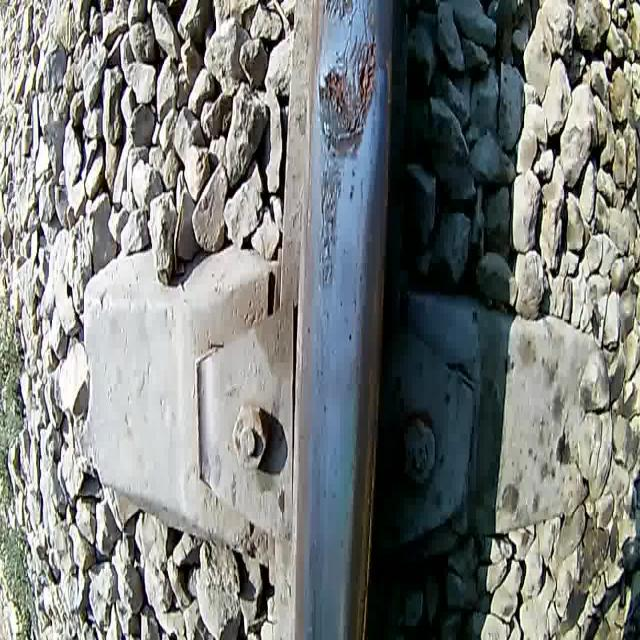Cracks: (342, 33, 376, 154), (332, 0, 372, 101), (316, 152, 333, 248)
Spallings: (319, 58, 345, 120)
Squats: (316, 31, 382, 168), (316, 158, 345, 292), (317, 0, 358, 25)
